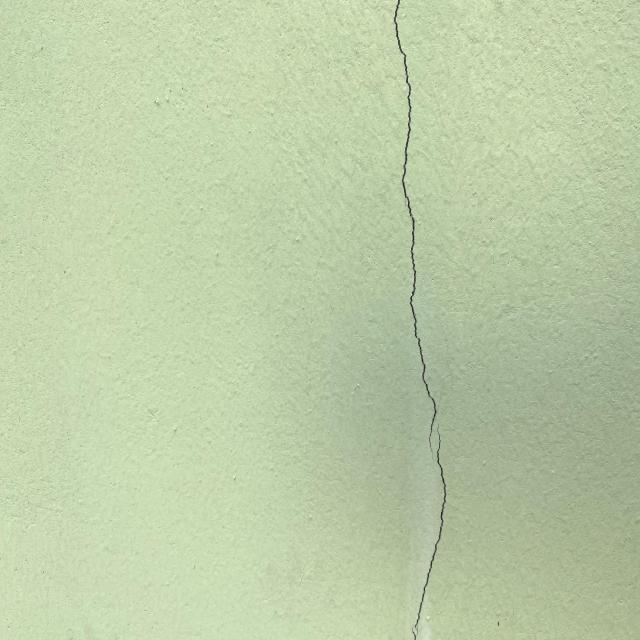SurfaceCrack: (348, 1, 489, 640)
